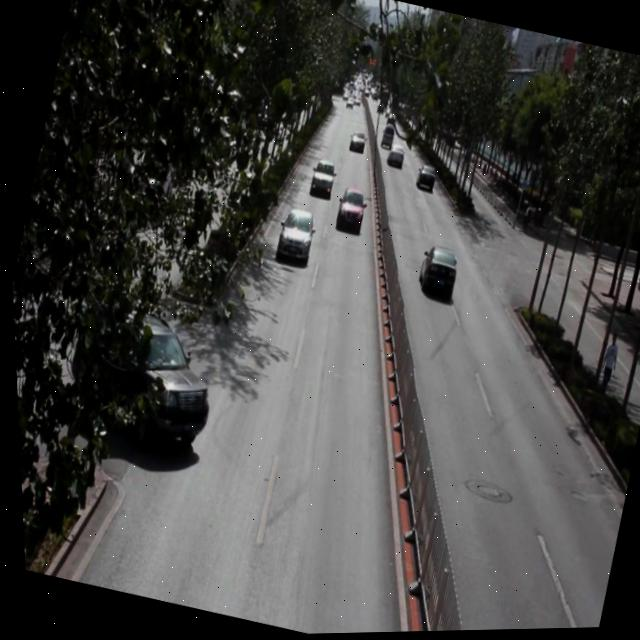car: (44, 289, 226, 460), (410, 241, 460, 306), (270, 204, 317, 268), (329, 185, 367, 235), (304, 156, 339, 199), (411, 161, 437, 193), (383, 141, 407, 169), (344, 128, 366, 157)
truck: (377, 123, 394, 151)
